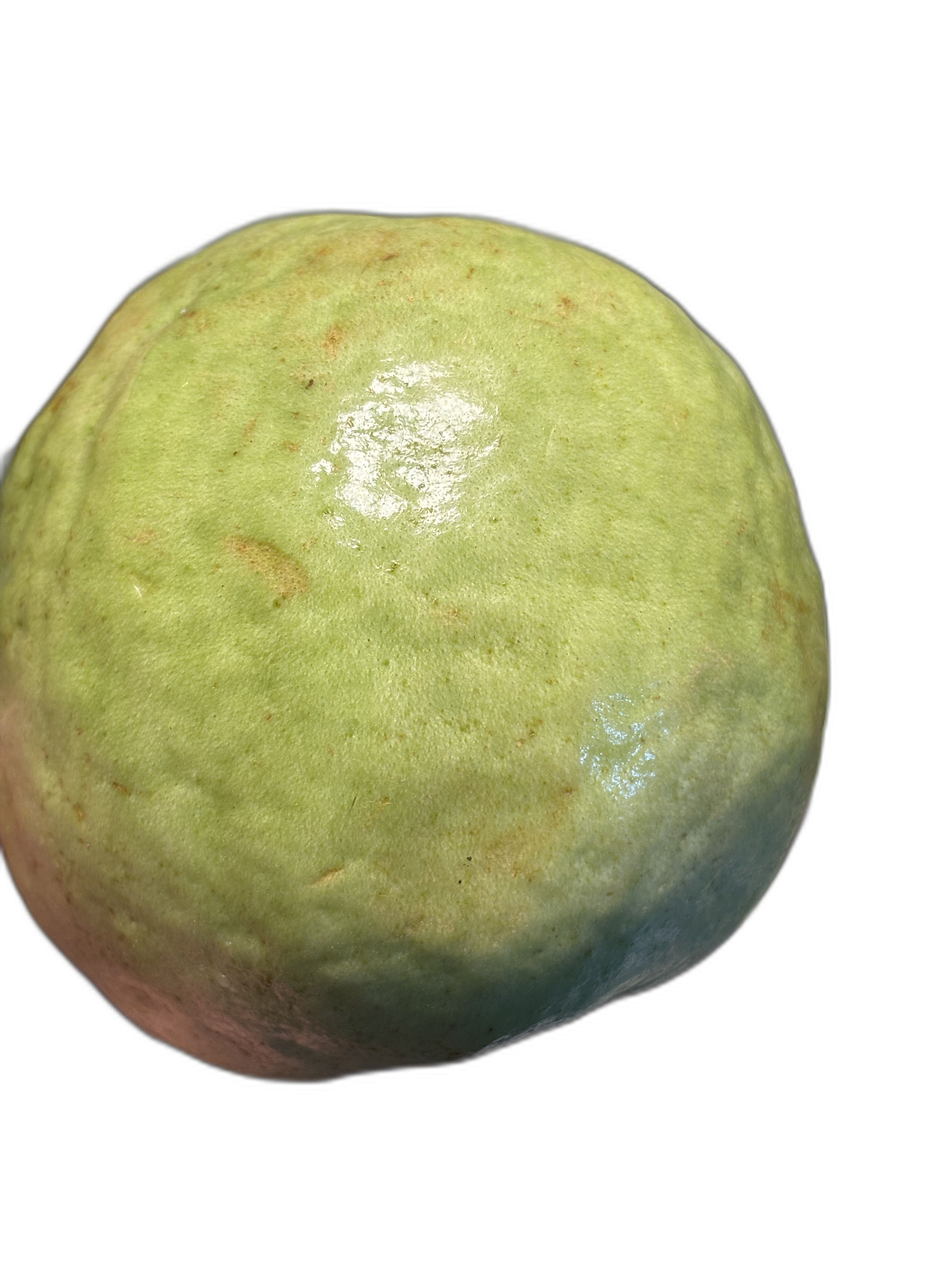guava: (57, 137, 892, 1084)
